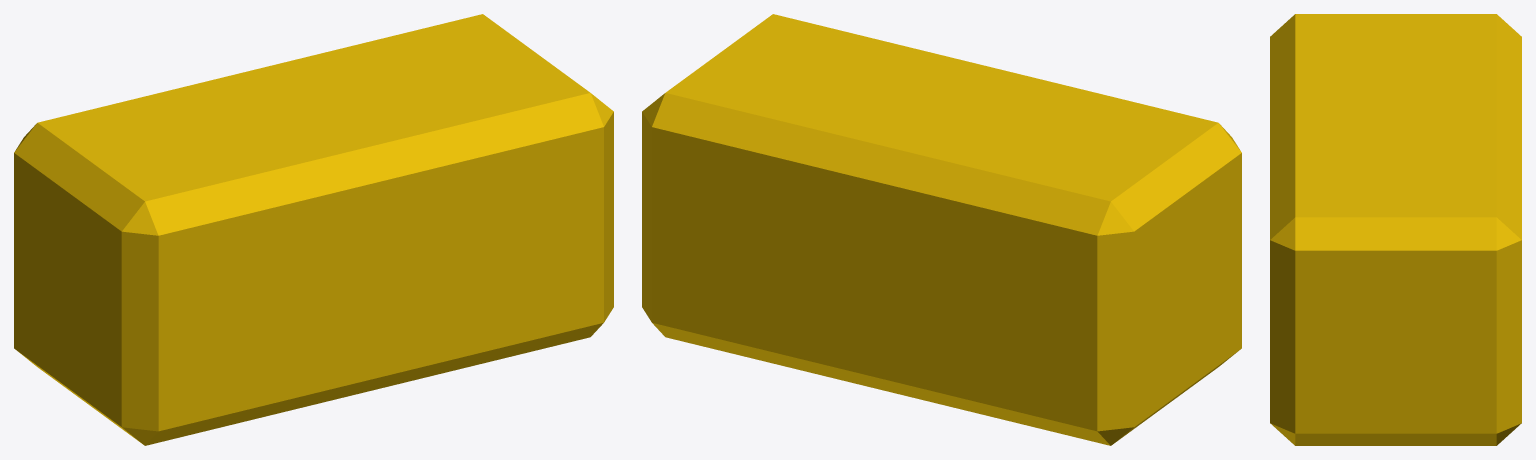
Rendered from Haybale.fbx.
The picture shows the model from 3 angles, left to right: view 1: azimuth 30°, elevation 25°; view 2: azimuth 150°, elevation 25°; view 3: azimuth 270°, elevation 25°; orthographic projection. The views are drawn at different scales.
Visible parts, largest first — view 1: Haybale; view 2: Haybale; view 3: Haybale.
Part boxes in pixels (x1,y1,x2,y2): Haybale: (14,14,613,445); Haybale: (642,14,1241,445); Haybale: (1270,14,1521,445).
Size of the model in its own units: 3.59 by 1.7 by 1.7.
